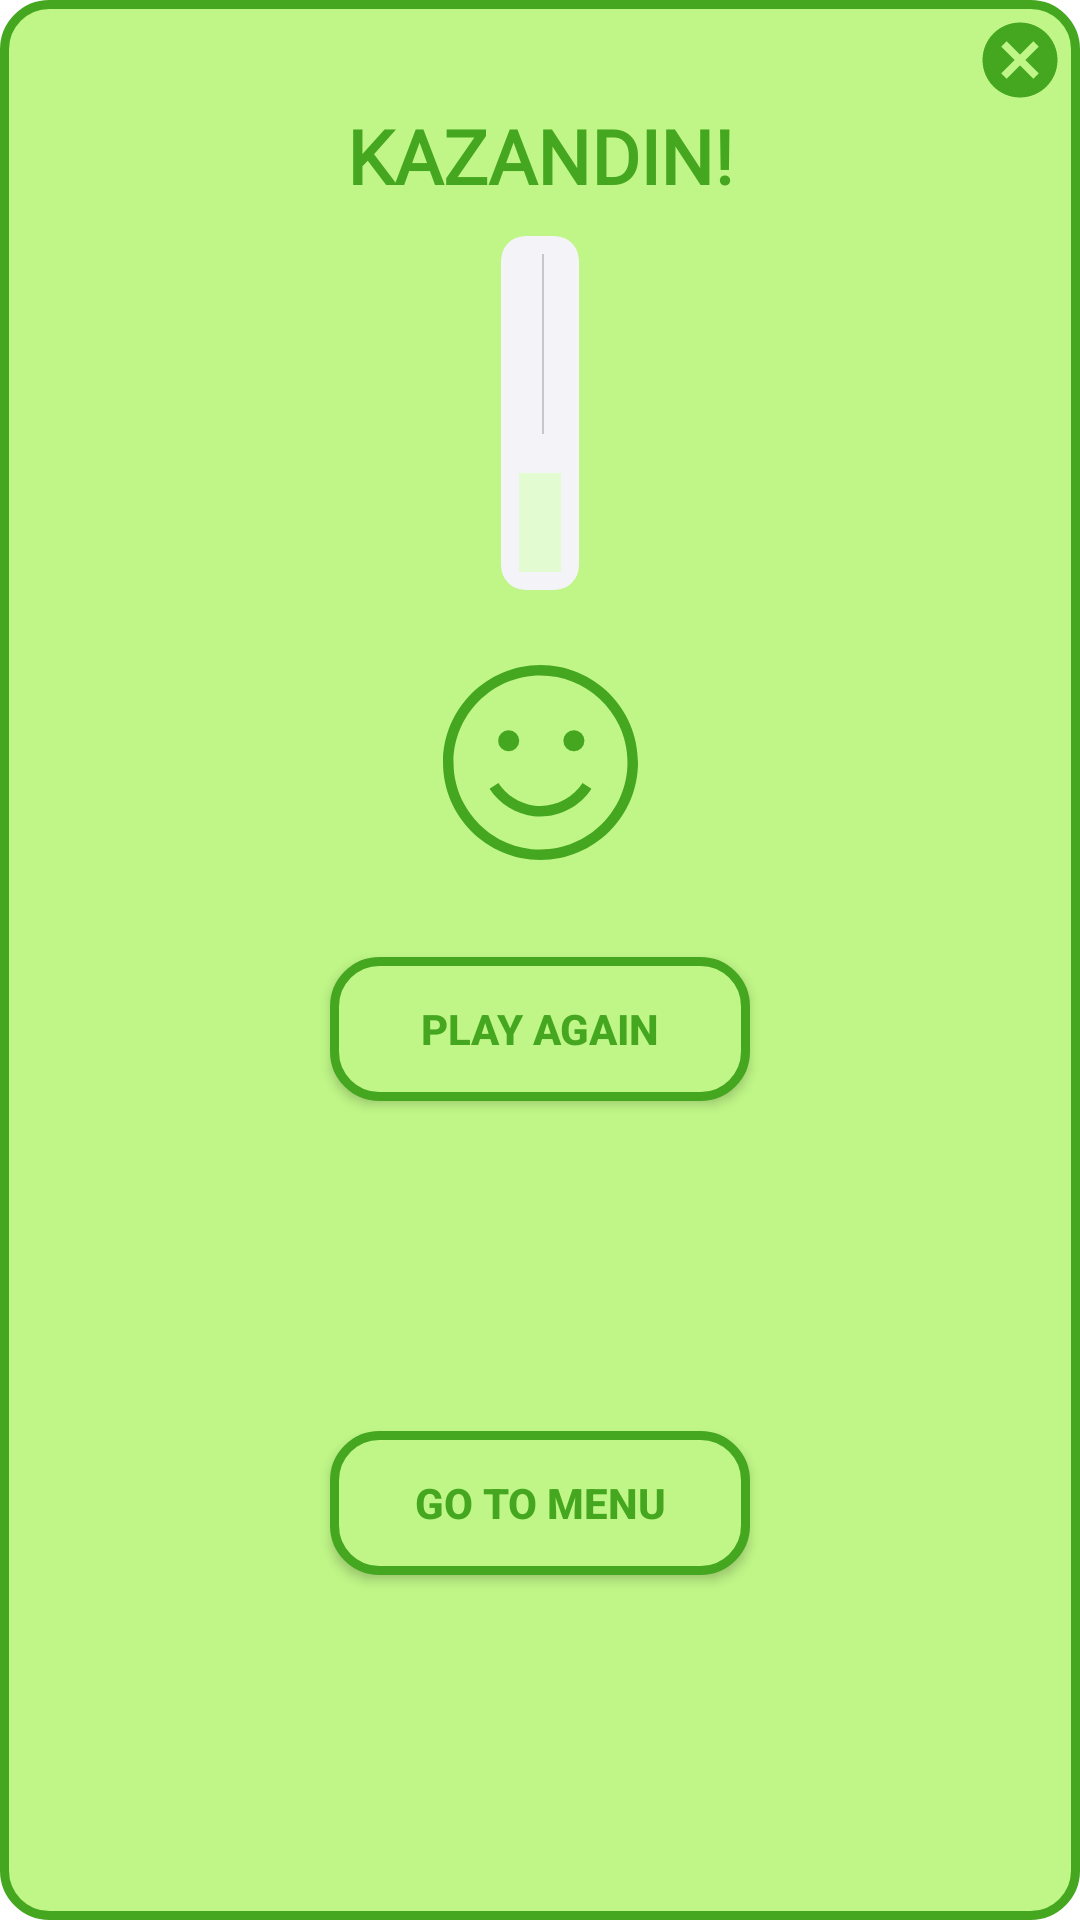

Icons on this 1080×1920 Android screen, each with the point to tap as (x=x, y=y):
cancel kazandin: (x=1020, y=60)
happiness: (x=540, y=762)
